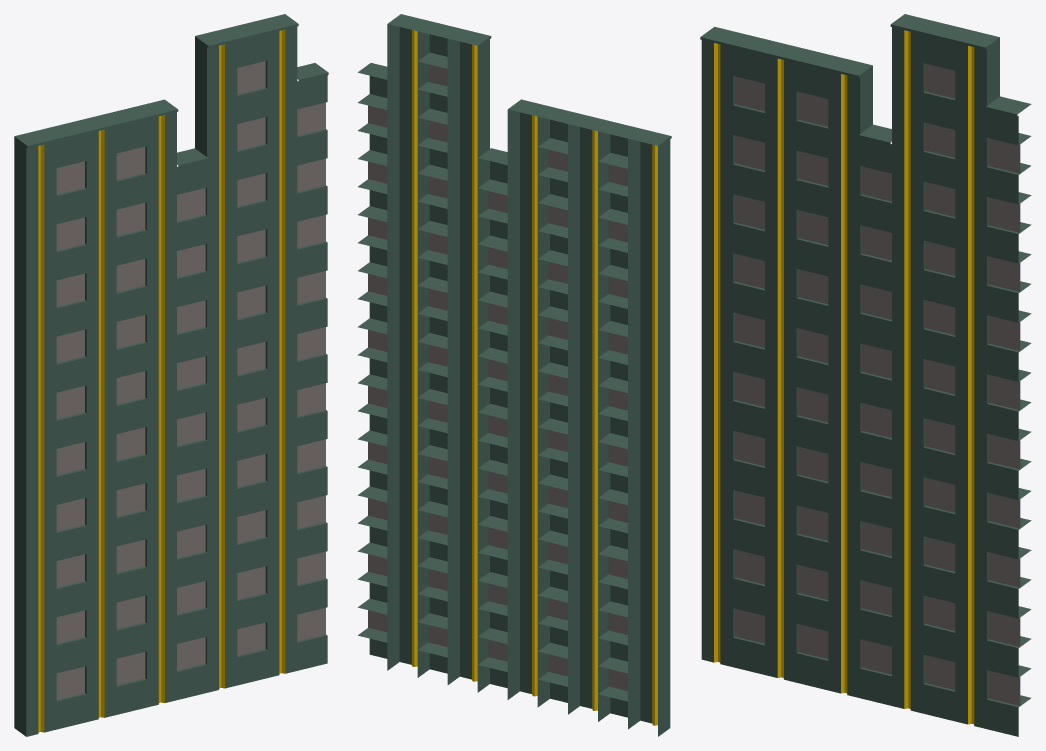
3 renders of one model, left to right at view 1: azimuth 30°, elevation 25°; view 2: azimuth 150°, elevation 25°; view 3: azimuth 330°, elevation 25°, orthographic. The views are drawn at different scales.
Parts seen in each view (by area): view 1: Edificio.005; view 2: Edificio.005; view 3: Edificio.005.
Boxes of the visible parts, left/top/right/bottom form: Edificio.005: left=14, top=14, right=328, bottom=736; Edificio.005: left=357, top=14, right=671, bottom=736; Edificio.005: left=700, top=14, right=1031, bottom=736.
Size of the model in its own units: 2785 by 5726 by 217.
